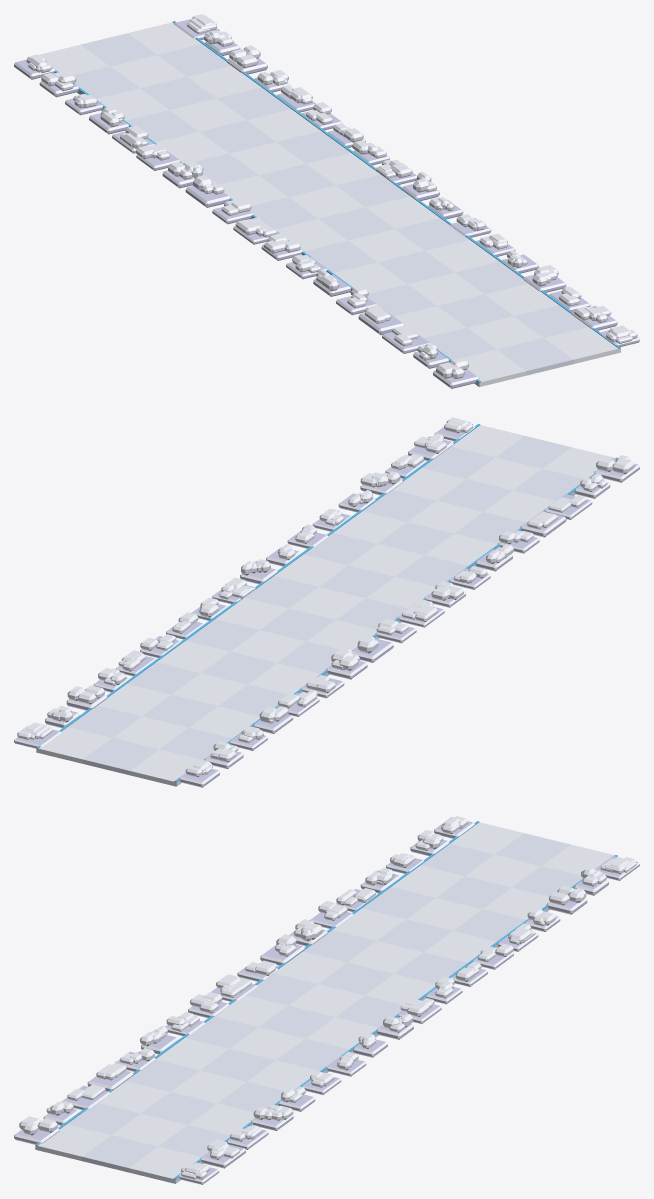
File: mar-de-nubes_Suelo.glb
The picture shows the model from 3 angles, top to bottom: view 1: azimuth 30°, elevation 25°; view 2: azimuth 150°, elevation 25°; view 3: azimuth 330°, elevation 25°; orthographic projection.
Visible parts, largest first — view 1: Mapa_mar_de_nubes_Suelo; view 2: Mapa_mar_de_nubes_Suelo; view 3: Mapa_mar_de_nubes_Suelo.
Part boxes in pixels (bbox=[...]): Mapa_mar_de_nubes_Suelo: bbox=[14, 14, 639, 388]; Mapa_mar_de_nubes_Suelo: bbox=[14, 417, 639, 787]; Mapa_mar_de_nubes_Suelo: bbox=[14, 816, 639, 1184].
Size of the model in its own units: 90.29 by 8.05 by 360.
1 material, 1 textured.
